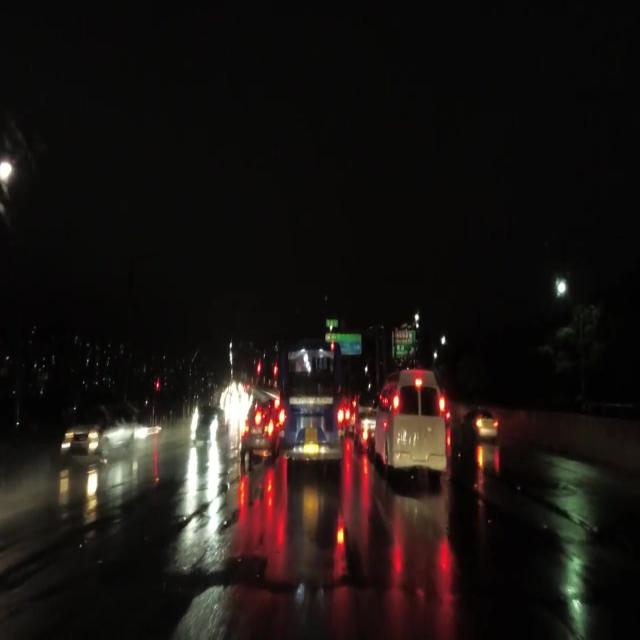Car: (377, 371, 442, 469), (60, 400, 134, 455), (242, 397, 275, 461), (462, 409, 498, 446), (192, 404, 225, 443), (354, 408, 375, 442)
